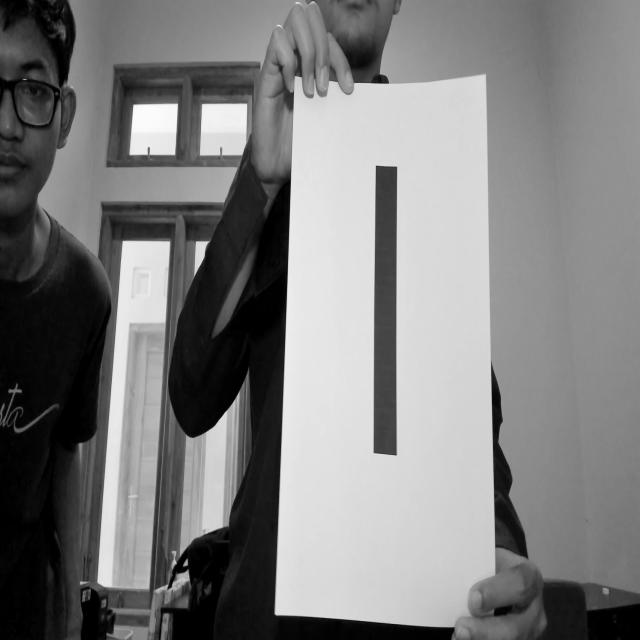i: (350, 142, 422, 508)
